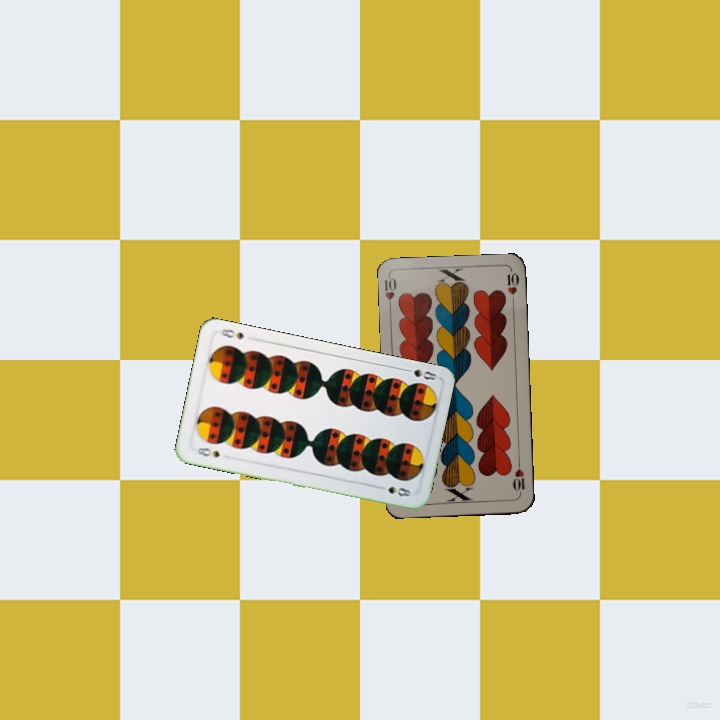H10: (509, 457, 528, 497), (381, 273, 399, 313)
S8: (399, 364, 439, 383), (193, 443, 222, 460)
